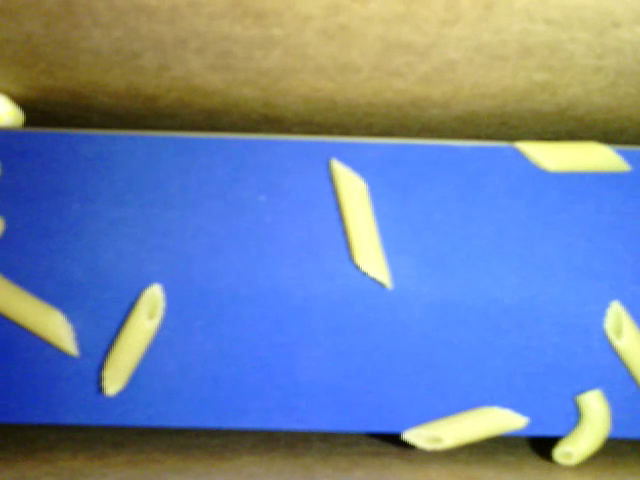elbow: (551, 388, 611, 467)
penne: (330, 157, 393, 289), (101, 281, 165, 396), (1, 275, 79, 358), (400, 406, 532, 451), (513, 140, 632, 172), (603, 297, 639, 383)
